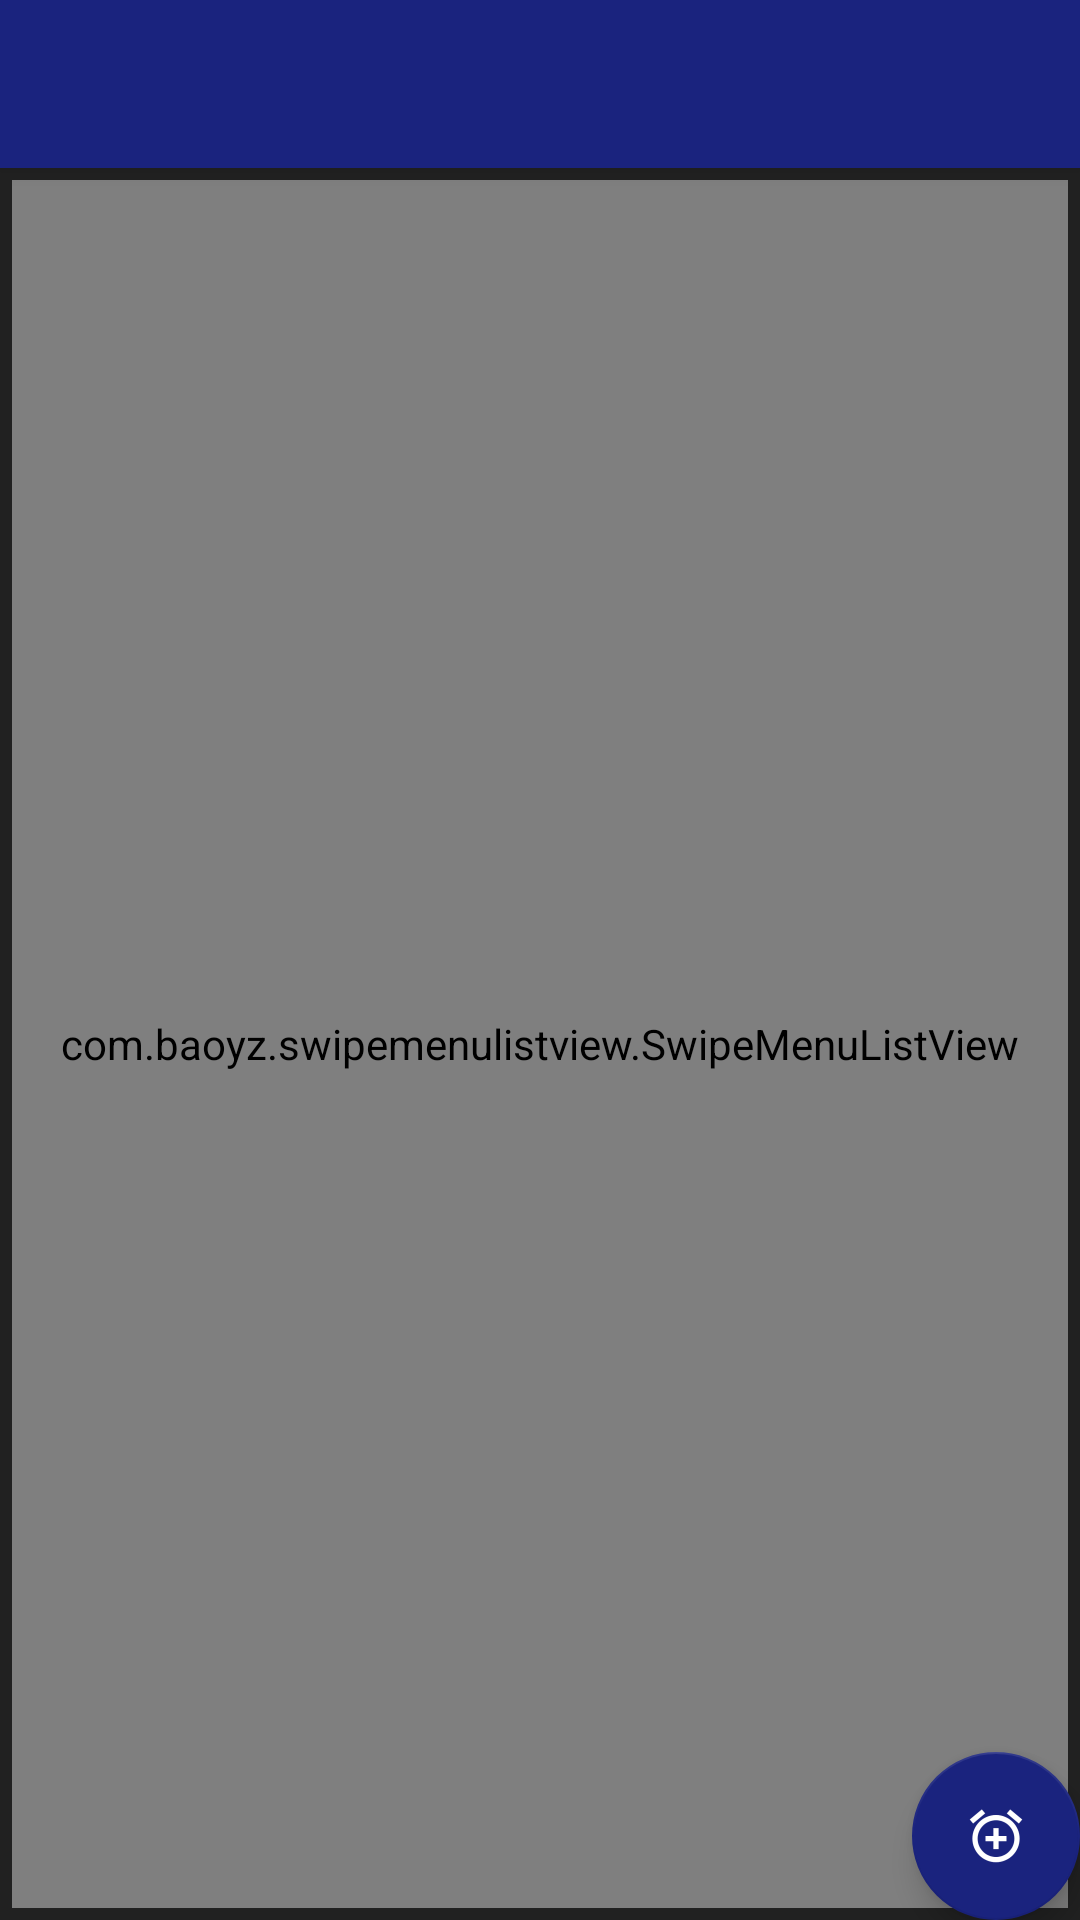

Named icons in this screenshot (1080x1920) and their centers, (x=x, y=y):
alarmadd: (x=996, y=1836)
